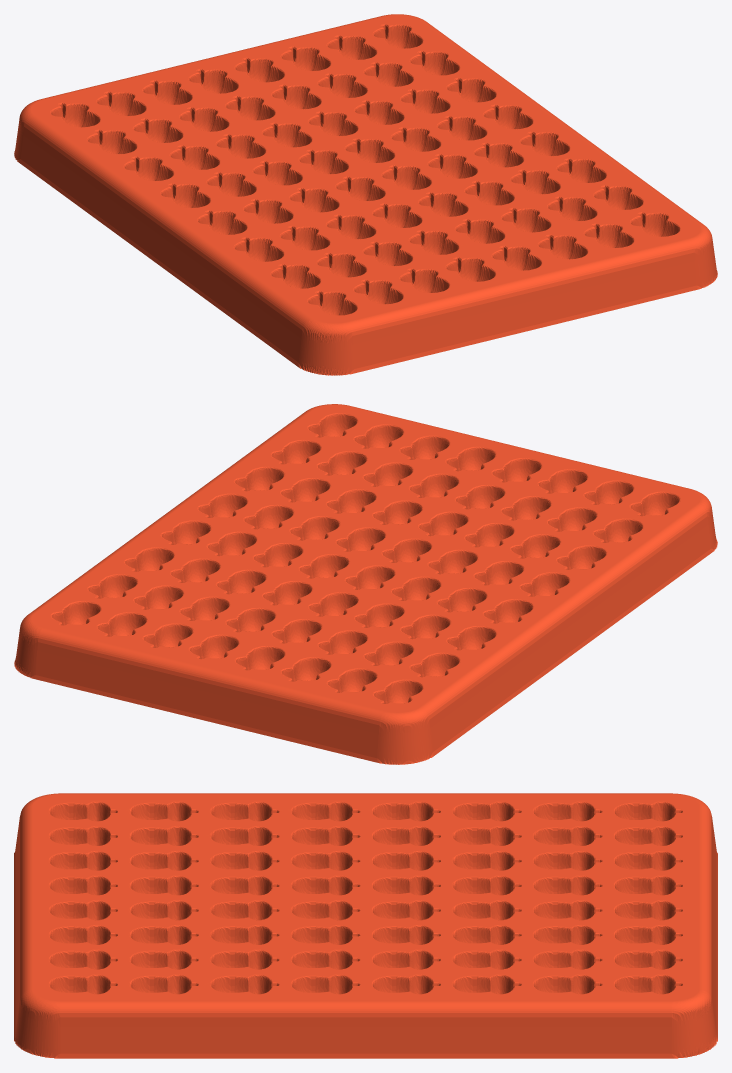
Rendered from mold.glb.
3 views of the same model, one above another, from view 1: azimuth 30°, elevation 25°; view 2: azimuth 150°, elevation 25°; view 3: azimuth 270°, elevation 25° (orthographic). The views are drawn at different scales.
Visible parts, largest first — view 1: geometry_0; view 2: geometry_0; view 3: geometry_0.
Part boxes in pixels (x1,y1,x2,y2): geometry_0: [14, 14, 717, 375]; geometry_0: [14, 404, 717, 764]; geometry_0: [14, 793, 717, 1058].
Bounding box in the file's own units: 0.1013 × 0.0105 × 0.1355.
